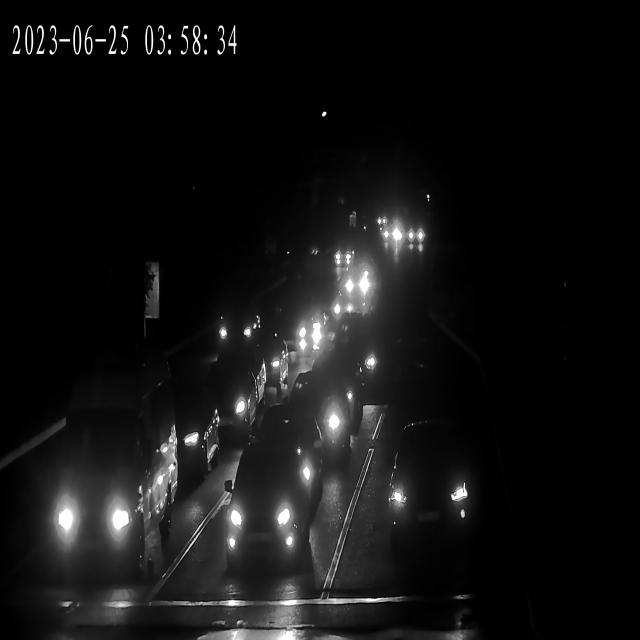Car: (48, 352, 174, 576), (218, 440, 321, 572), (380, 434, 480, 541), (274, 374, 359, 464), (168, 389, 235, 494), (192, 359, 260, 438), (235, 336, 292, 393), (278, 302, 334, 353), (276, 307, 328, 361), (270, 312, 320, 366), (210, 303, 264, 345), (340, 266, 375, 298), (332, 246, 356, 267), (377, 229, 400, 245), (406, 230, 426, 248), (371, 216, 387, 228)
